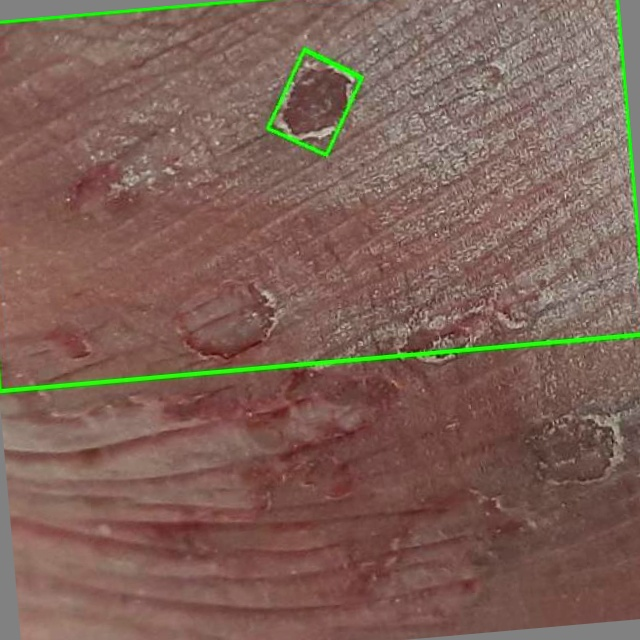Contact Dermatitis: (0, 0, 639, 392), (268, 50, 362, 155)
